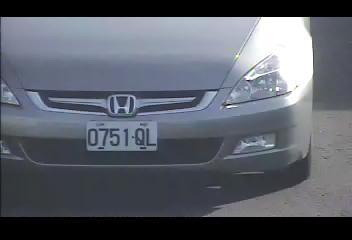plate: (84, 118, 158, 153)
